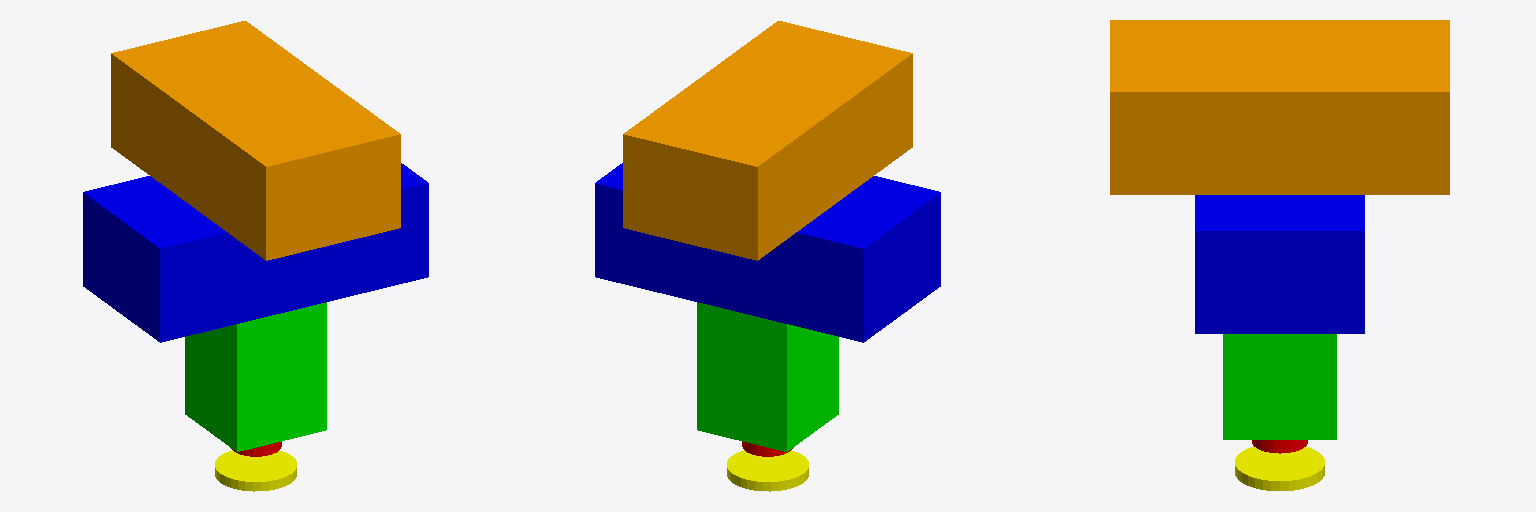
URDF robot description (gantry_robot):
<?xml version="1.0"?>
<robot name="gantry_robot">
  
  <!-- Define constants -->
  <property name="pi" value="3.14159265359"/>
  
  <!-- World reference frame -->
  <link name="world"/>
  
  <!-- Base of the gantry system (fixed to world) -->
  <link name="base_link">
    <inertial>
      <mass value="100.0"/>
      <origin xyz="0 0 0.5"/>
      <inertia ixx="10" ixy="0" ixz="0" iyy="10" iyz="0" izz="10"/>
    </inertial>
    <!-- Visual hidden for better view of robot parts -->
    <collision>
      <origin xyz="0 0 0.5" rpy="0 0 0"/>
      <geometry>
        <box size="1.0 1.0 1.0"/>
      </geometry>
    </collision>
  </link>
  
  <!-- Fixed joint from world to base -->
  <joint name="world_to_base" type="fixed">
    <parent link="world"/>
    <child link="base_link"/>
    <origin xyz="0 0 0" rpy="0 0 0"/>
  </joint>
  
  <!-- X-axis carriage (linear motion along X) -->
  <link name="x_carriage">
    <inertial>
      <mass value="20.0"/>
      <origin xyz="0 0 0"/>
      <inertia ixx="1" ixy="0" ixz="0" iyy="1" iyz="0" izz="1"/>
    </inertial>
    <visual>
      <origin xyz="0 0 0" rpy="0 0 0"/>
      <geometry>
        <box size="0.3 0.6 0.2"/>
      </geometry>
      <material name="orange">
        <color rgba="1.0 0.647 0.0 1"/>
      </material>
    </visual>
    <collision>
      <origin xyz="0 0 0" rpy="0 0 0"/>
      <geometry>
        <box size="0.3 0.6 0.2"/>
      </geometry>
    </collision>
  </link>
  
  <!-- X-axis joint (prismatic) -->
  <joint name="joint_x" type="prismatic">
    <parent link="base_link"/>
    <child link="x_carriage"/>
    <origin xyz="0 0 1.1" rpy="0 0 0"/>
    <axis xyz="1 0 0"/>
    <limit lower="-0.4" upper="0.4" effort="100" velocity="1.0"/>
    <dynamics damping="10" friction="5"/>
  </joint>
  
  <!-- Y-axis carriage (linear motion along Y) -->
  <link name="y_carriage">
    <inertial>
      <mass value="15.0"/>
      <origin xyz="0 0 0"/>
      <inertia ixx="1" ixy="0" ixz="0" iyy="1" iyz="0" izz="1"/>
    </inertial>
    <visual>
      <origin xyz="0 0 0" rpy="0 0 0"/>
      <geometry>
        <box size="0.6 0.3 0.2"/>
      </geometry>
      <material name="blue">
        <color rgba="0.0 0.0 1.0 1"/>
      </material>
    </visual>
    <collision>
      <origin xyz="0 0 0" rpy="0 0 0"/>
      <geometry>
        <box size="0.6 0.3 0.2"/>
      </geometry>
    </collision>
  </link>
  
  <!-- Y-axis joint (prismatic) -->
  <joint name="joint_y" type="prismatic">
    <parent link="x_carriage"/>
    <child link="y_carriage"/>
    <origin xyz="0 0 -0.2" rpy="0 0 0"/>
    <axis xyz="0 1 0"/>
    <limit lower="-0.3" upper="0.3" effort="100" velocity="1.0"/>
    <dynamics damping="10" friction="5"/>
  </joint>
  
  <!-- Z-axis carriage (linear motion along Z) -->
  <link name="z_carriage">
    <inertial>
      <mass value="10.0"/>
      <origin xyz="0 0 0"/>
      <inertia ixx="0.5" ixy="0" ixz="0" iyy="0.5" iyz="0" izz="0.5"/>
    </inertial>
    <visual>
      <origin xyz="0 0 0" rpy="0 0 0"/>
      <geometry>
        <box size="0.2 0.2 0.3"/>
      </geometry>
      <material name="green">
        <color rgba="0.0 1.0 0.0 1"/>
      </material>
    </visual>
    <collision>
      <origin xyz="0 0 0" rpy="0 0 0"/>
      <geometry>
        <box size="0.2 0.2 0.3"/>
      </geometry>
    </collision>
  </link>
  
  <!-- Z-axis joint (prismatic) -->
  <joint name="joint_z" type="prismatic">
    <parent link="y_carriage"/>
    <child link="z_carriage"/>
    <origin xyz="0 0 -0.25" rpy="0 0 0"/>
    <axis xyz="0 0 1"/>
    <limit lower="-0.5" upper="0.5" effort="500" velocity="1.0"/>
    <dynamics damping="50" friction="10"/>
  </joint>
  
  <!-- End-effector frame (tool0) -->
  <link name="tool0">
    <inertial>
      <mass value="2.0"/>
      <origin xyz="0 0 0"/>
      <inertia ixx="0.1" ixy="0" ixz="0" iyy="0.1" iyz="0" izz="0.1"/>
    </inertial>
    <visual>
      <origin xyz="0 0 0" rpy="0 0 0"/>
      <geometry>
        <cylinder radius="0.05" length="0.1"/>
      </geometry>
      <material name="red">
        <color rgba="1.0 0.0 0.0 1"/>
      </material>
    </visual>
    <collision>
      <origin xyz="0 0 0" rpy="0 0 0"/>
      <geometry>
        <cylinder radius="0.05" length="0.1"/>
      </geometry>
    </collision>
  </link>
  
  <!-- End-effector joint -->
  <joint name="tool_joint" type="fixed">
    <parent link="z_carriage"/>
    <child link="tool0"/>
    <origin xyz="0 0 -0.15" rpy="0 0 0"/>
  </joint>
  
  <!-- Suction cup collision object (optional) -->
  <link name="gripper_cup">
    <inertial>
      <mass value="0.5"/>
      <origin xyz="0 0 0"/>
      <inertia ixx="0.01" ixy="0" ixz="0" iyy="0.01" iyz="0" izz="0.01"/>
    </inertial>
    <visual>
      <origin xyz="0 0 0" rpy="0 0 0"/>
      <geometry>
        <cylinder radius="0.08" length="0.02"/>
      </geometry>
      <material name="yellow">
        <color rgba="1.0 1.0 0.0 1"/>
      </material>
    </visual>
    <collision>
      <origin xyz="0 0 0" rpy="0 0 0"/>
      <geometry>
        <cylinder radius="0.08" length="0.02"/>
      </geometry>
    </collision>
  </link>
  
  <!-- Gripper cup joint -->
  <joint name="gripper_joint" type="fixed">
    <parent link="tool0"/>
    <child link="gripper_cup"/>
    <origin xyz="0 0 -0.1" rpy="0 0 0"/>
  </joint>
  
  <!-- Gazebo Materials for Colors -->
  <gazebo reference="base_link">
    <material>Gazebo/Grey</material>
  </gazebo>
  
  <gazebo reference="x_carriage">
    <material>Gazebo/Orange</material>
  </gazebo>
  
  <gazebo reference="y_carriage">
    <material>Gazebo/Blue</material>
  </gazebo>
  
  <gazebo reference="z_carriage">
    <material>Gazebo/Green</material>
  </gazebo>
  
  <gazebo reference="tool0">
    <material>Gazebo/Red</material>
  </gazebo>
  
  <gazebo reference="gripper_cup">
    <material>Gazebo/Yellow</material>
  </gazebo>
  
  <!-- Gazebo ROS Control Plugin -->
  <gazebo>
    <plugin name="gazebo_ros_control" filename="libgazebo_ros_control.so">
      <robotNamespace>/</robotNamespace>
    </plugin>
  </gazebo>
  
  <!-- Transmissions for ros_control -->
  <transmission name="trans_joint_x">
    <type>transmission_interface/SimpleTransmission</type>
    <joint name="joint_x">
      <hardwareInterface>hardware_interface/EffortJointInterface</hardwareInterface>
    </joint>
    <actuator name="motor_x">
      <hardwareInterface>hardware_interface/EffortJointInterface</hardwareInterface>
      <mechanicalReduction>1</mechanicalReduction>
    </actuator>
  </transmission>
  
  <transmission name="trans_joint_y">
    <type>transmission_interface/SimpleTransmission</type>
    <joint name="joint_y">
      <hardwareInterface>hardware_interface/EffortJointInterface</hardwareInterface>
    </joint>
    <actuator name="motor_y">
      <hardwareInterface>hardware_interface/EffortJointInterface</hardwareInterface>
      <mechanicalReduction>1</mechanicalReduction>
    </actuator>
  </transmission>
  
  <transmission name="trans_joint_z">
    <type>transmission_interface/SimpleTransmission</type>
    <joint name="joint_z">
      <hardwareInterface>hardware_interface/EffortJointInterface</hardwareInterface>
    </joint>
    <actuator name="motor_z">
      <hardwareInterface>hardware_interface/EffortJointInterface</hardwareInterface>
      <mechanicalReduction>1</mechanicalReduction>
    </actuator>
  </transmission>
  
</robot>

--- What the picture shows (computed from the rendered views, not written in the file) ---
Views: 3 orthographic renders of the robot side by side, from view 1: azimuth 30°, elevation 25°; view 2: azimuth 150°, elevation 25°; view 3: azimuth 270°, elevation 25°.
Model gantry_robot with 7 links and 6 joints (3 prismatic, 3 fixed), rooted at world, posed all joints at 0.
Links seen in each view (by area): view 1: x_carriage, y_carriage, z_carriage, gripper_cup; view 2: x_carriage, y_carriage, z_carriage, gripper_cup; view 3: x_carriage, y_carriage, z_carriage, gripper_cup, tool0.
Link boxes in pixels (x1,y1,x2,y2): x_carriage: [111, 21, 400, 260]; y_carriage: [83, 163, 428, 342]; z_carriage: [185, 302, 326, 451]; gripper_cup: [215, 450, 296, 491]; x_carriage: [623, 21, 912, 260]; y_carriage: [595, 163, 940, 342]; z_carriage: [697, 302, 838, 451]; gripper_cup: [727, 450, 808, 491]; x_carriage: [1110, 20, 1449, 194]; y_carriage: [1195, 195, 1364, 333]; z_carriage: [1223, 334, 1336, 439]; gripper_cup: [1235, 447, 1324, 490]; tool0: [1252, 440, 1307, 453].
Size in the robot's own frame: 0.6 by 0.6 by 0.81 metres.
Geometry: primitives only (box / cylinder / sphere), no mesh files.